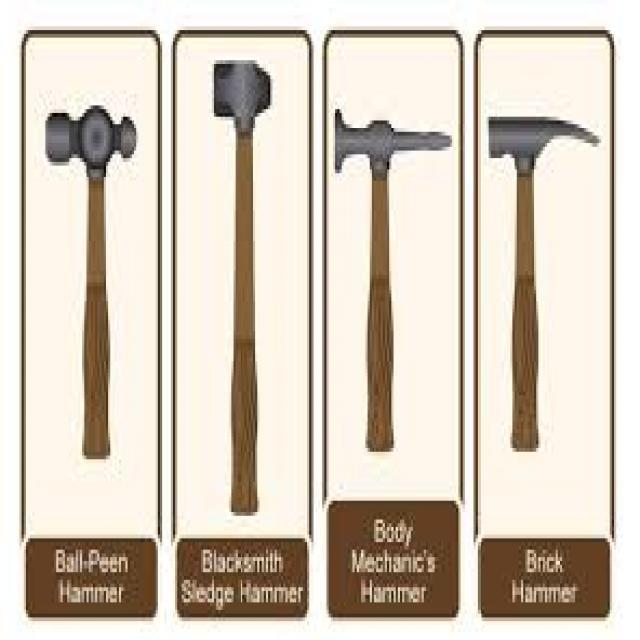hammer: (330, 87, 454, 474), (478, 92, 606, 464), (38, 80, 156, 475), (204, 52, 292, 529)
